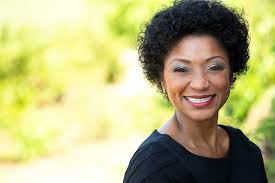person: (145, 3, 237, 123)
